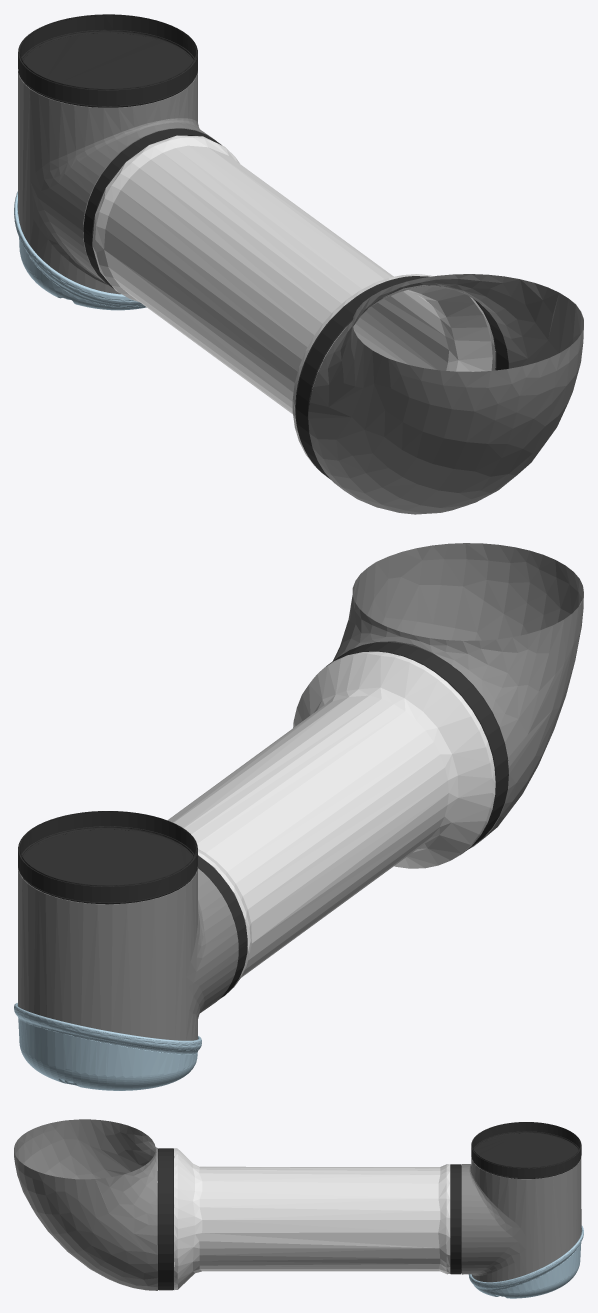
The model's file is elbow.dae.
The picture shows the model from 3 angles, top to bottom: view 1: azimuth 30°, elevation 25°; view 2: azimuth 150°, elevation 25°; view 3: azimuth 270°, elevation 25°; orthographic projection. The views are drawn at different scales.
Parts seen in each view (by area): view 1: eSeries_UR10e_031, eSeries_UR10e_015, eSeries_UR10e_018, eSeries_UR10e_020, eSeries_UR10e_031.001, eSeries_UR10e_016, eSeries_UR10e_031.002, eSeries_UR10e_017, eSeries_UR10e_019; view 2: eSeries_UR10e_031, eSeries_UR10e_015, eSeries_UR10e_018, eSeries_UR10e_031.001, eSeries_UR10e_020, eSeries_UR10e_017, eSeries_UR10e_016, eSeries_UR10e_019, eSeries_UR10e_031.002; view 3: eSeries_UR10e_031, eSeries_UR10e_015, eSeries_UR10e_018, eSeries_UR10e_020, eSeries_UR10e_031.001, eSeries_UR10e_017, eSeries_UR10e_016, eSeries_UR10e_019, eSeries_UR10e_031.002.
Part boxes in pixels (bbox=[...]): eSeries_UR10e_031: bbox=[104, 145, 449, 414]; eSeries_UR10e_015: bbox=[308, 274, 583, 514]; eSeries_UR10e_018: bbox=[18, 71, 215, 294]; eSeries_UR10e_020: bbox=[18, 14, 197, 107]; eSeries_UR10e_031.001: bbox=[292, 274, 495, 469]; eSeries_UR10e_016: bbox=[295, 276, 508, 479]; eSeries_UR10e_031.002: bbox=[92, 135, 239, 301]; eSeries_UR10e_017: bbox=[14, 191, 146, 310]; eSeries_UR10e_019: bbox=[83, 128, 221, 288]; eSeries_UR10e_031: bbox=[167, 695, 448, 977]; eSeries_UR10e_015: bbox=[333, 543, 583, 848]; eSeries_UR10e_018: bbox=[18, 867, 238, 1040]; eSeries_UR10e_031.001: bbox=[293, 651, 495, 868]; eSeries_UR10e_020: bbox=[18, 811, 197, 904]; eSeries_UR10e_017: bbox=[14, 1003, 201, 1090]; eSeries_UR10e_016: bbox=[326, 642, 508, 854]; eSeries_UR10e_019: bbox=[197, 855, 247, 999]; eSeries_UR10e_031.002: bbox=[198, 849, 251, 996]; eSeries_UR10e_031: bbox=[199, 1166, 440, 1271]; eSeries_UR10e_015: bbox=[14, 1119, 157, 1290]; eSeries_UR10e_018: bbox=[461, 1157, 581, 1282]; eSeries_UR10e_020: bbox=[471, 1122, 581, 1178]; eSeries_UR10e_031.001: bbox=[174, 1148, 202, 1290]; eSeries_UR10e_017: bbox=[468, 1225, 583, 1298]; eSeries_UR10e_016: bbox=[157, 1148, 173, 1290]; eSeries_UR10e_019: bbox=[450, 1164, 461, 1274]; eSeries_UR10e_031.002: bbox=[438, 1164, 450, 1274].
Size of the model in its own units: 0.116 by 0.465 by 0.1255.
